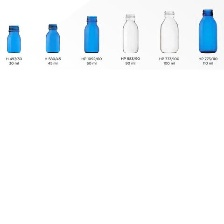bottle: (190, 7, 221, 54), (73, 10, 104, 53), (156, 7, 179, 54), (35, 19, 62, 55), (119, 11, 142, 53), (2, 18, 26, 56)
